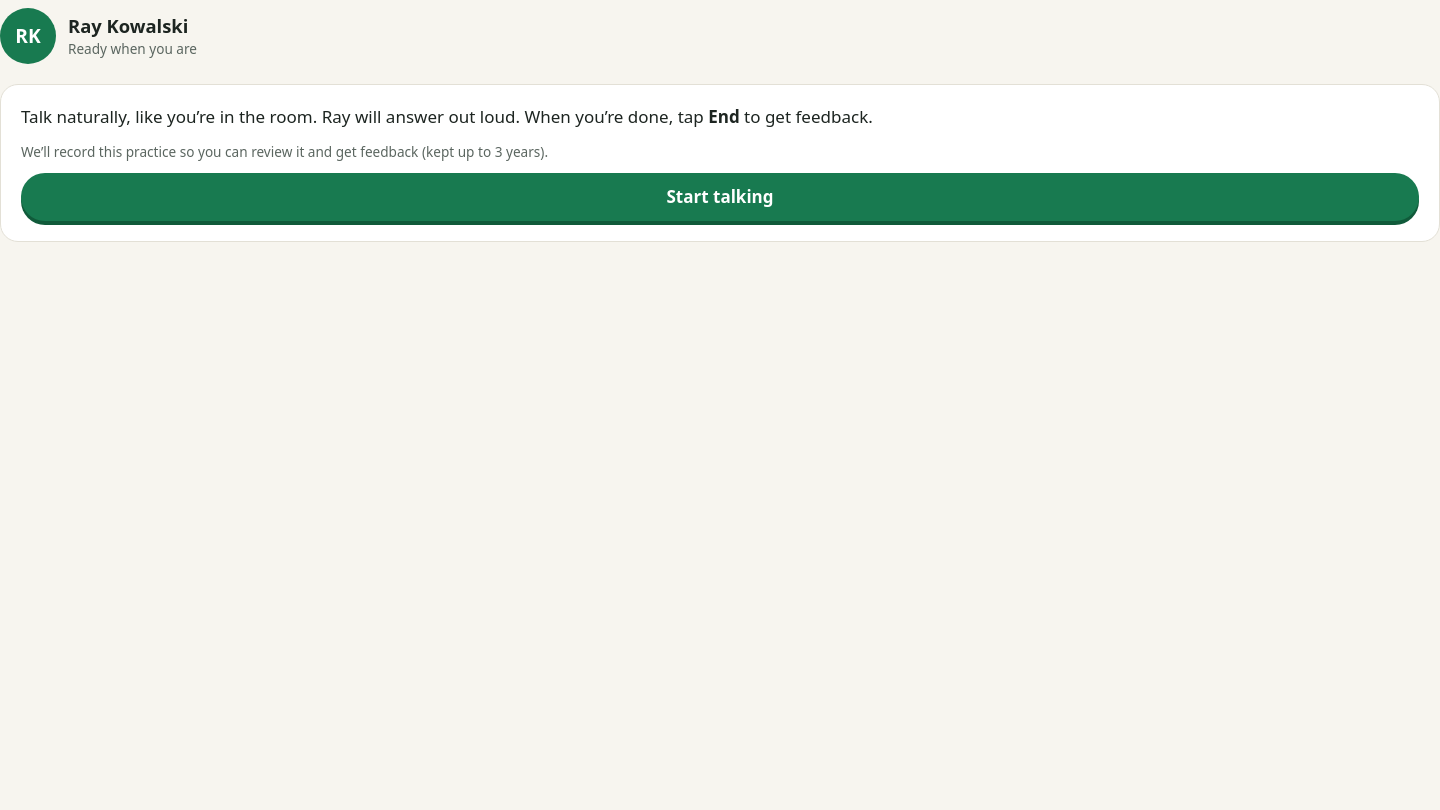
Test: two-way voice › replaces a reply that has not played yet when the resident keeps talking
Click the button "Start talking" at (720, 197), box top-left (21, 173), bottom-right (1419, 221)
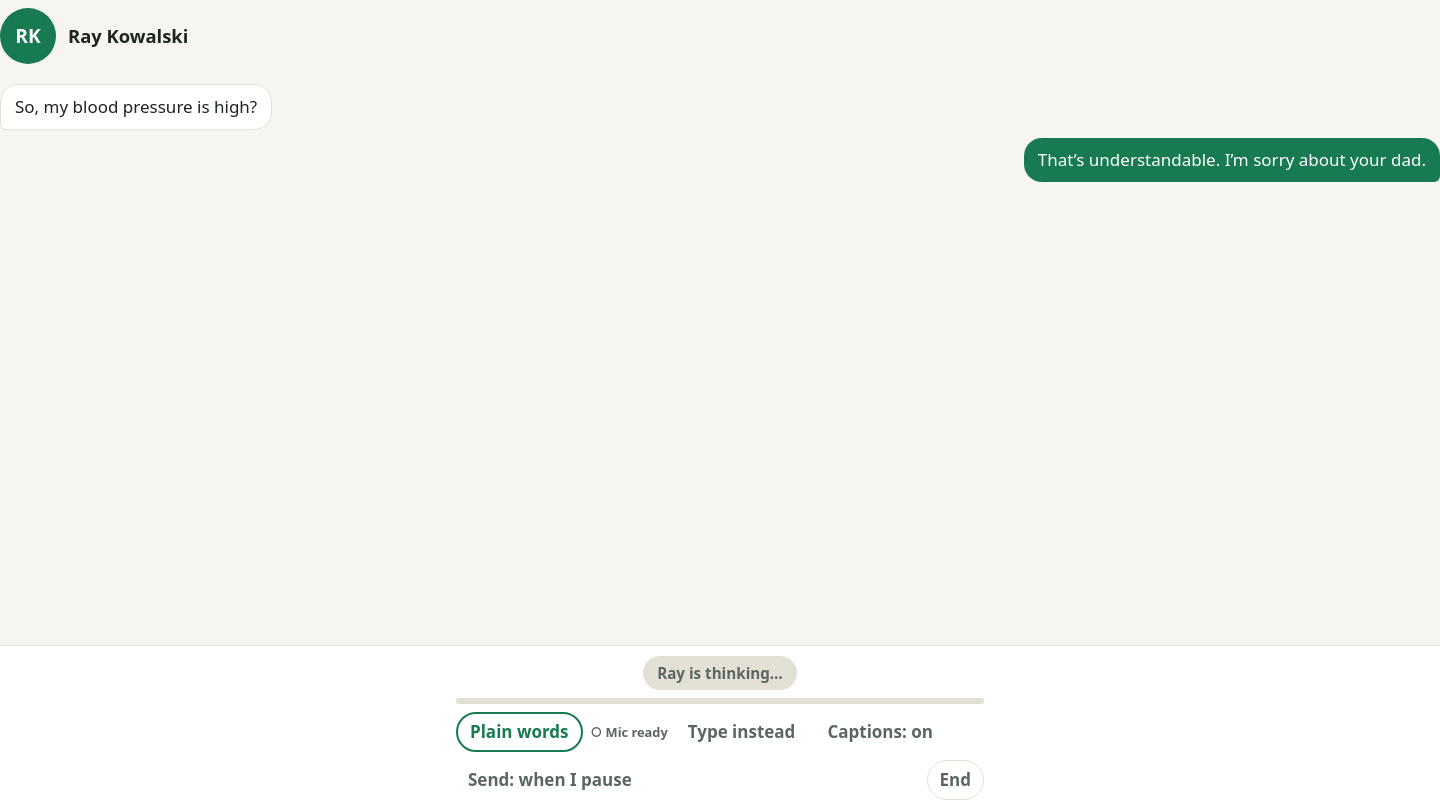
Now the text "So, my blood pressure is high?" is shown, box top-left (0, 84), bottom-right (272, 130)
Now the text "That’s understandable. I’m sorry about your dad." is shown, box top-left (1024, 138), bottom-right (1439, 182)
